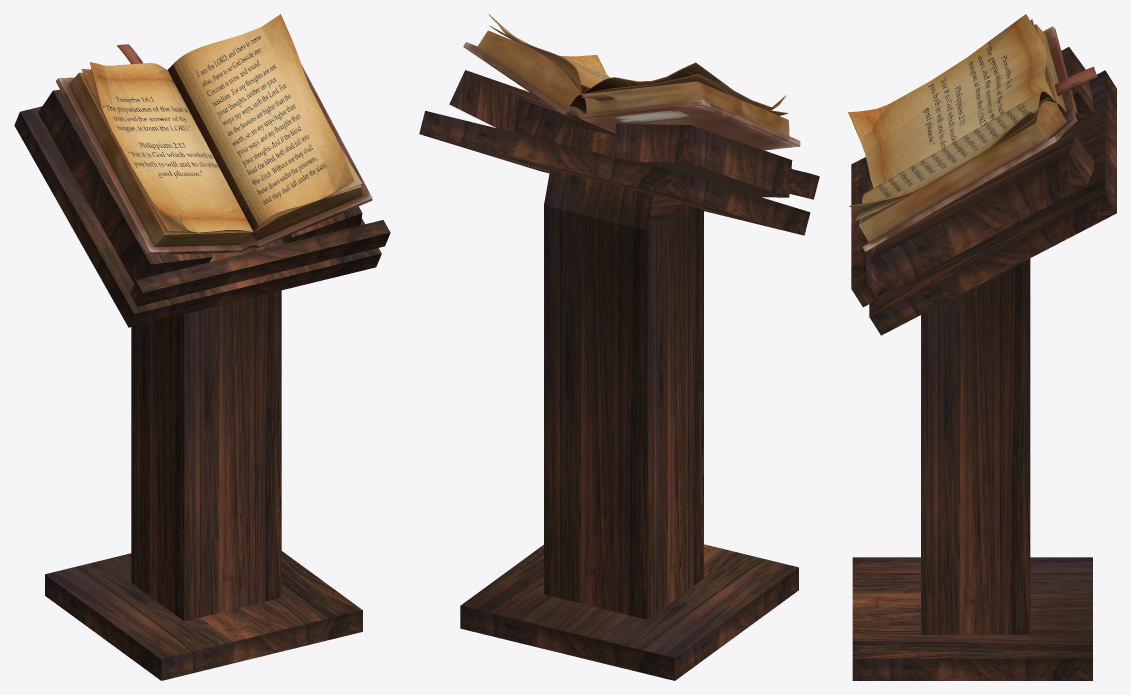
Rendered from obj_bible_on_stand.glb.
The picture shows the model from 3 angles, left to right: view 1: azimuth 30°, elevation 25°; view 2: azimuth 150°, elevation 25°; view 3: azimuth 270°, elevation 25°; orthographic projection. The views are drawn at different scales.
Parts seen in each view (by area): view 1: node_id30_Material_100_0; view 2: node_id30_Material_100_0; view 3: node_id30_Material_100_0.
Boxes of the visible parts, bbox=[...] form: node_id30_Material_100_0: bbox=[14, 14, 390, 680]; node_id30_Material_100_0: bbox=[419, 14, 819, 680]; node_id30_Material_100_0: bbox=[848, 14, 1116, 680].
Size of the model in its own units: 0.5378 by 1.15 by 0.4901.
Materials: 15 (14 with a texture image).
